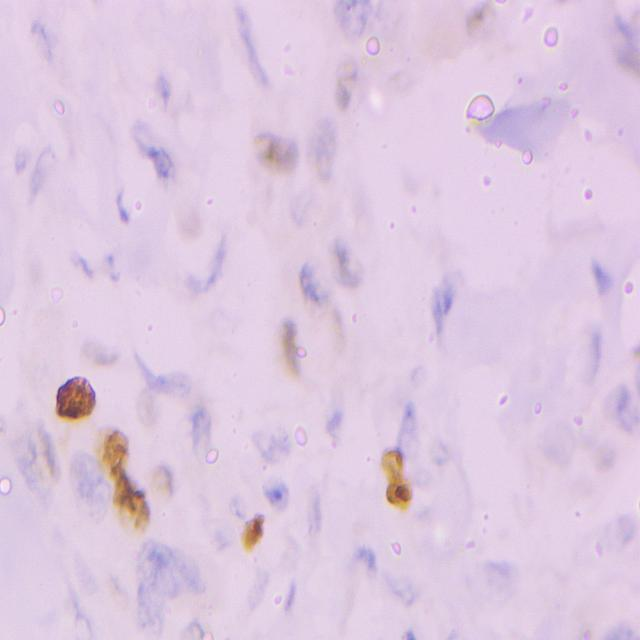Healthy cell: (128, 541, 196, 640), (5, 416, 44, 505), (126, 119, 180, 182), (476, 553, 528, 615), (307, 108, 343, 192), (69, 444, 107, 516), (328, 0, 378, 49), (250, 416, 302, 463), (419, 266, 455, 324), (294, 249, 328, 305), (259, 466, 287, 517), (188, 392, 212, 444)
cancer-cell-QiJm: (249, 108, 302, 188), (374, 452, 424, 512), (115, 473, 156, 540), (278, 310, 310, 384), (54, 372, 96, 425), (452, 0, 499, 41), (142, 452, 180, 501), (129, 382, 166, 431), (322, 301, 355, 354), (243, 506, 276, 557), (334, 49, 360, 106), (103, 427, 129, 478), (43, 434, 59, 482)
